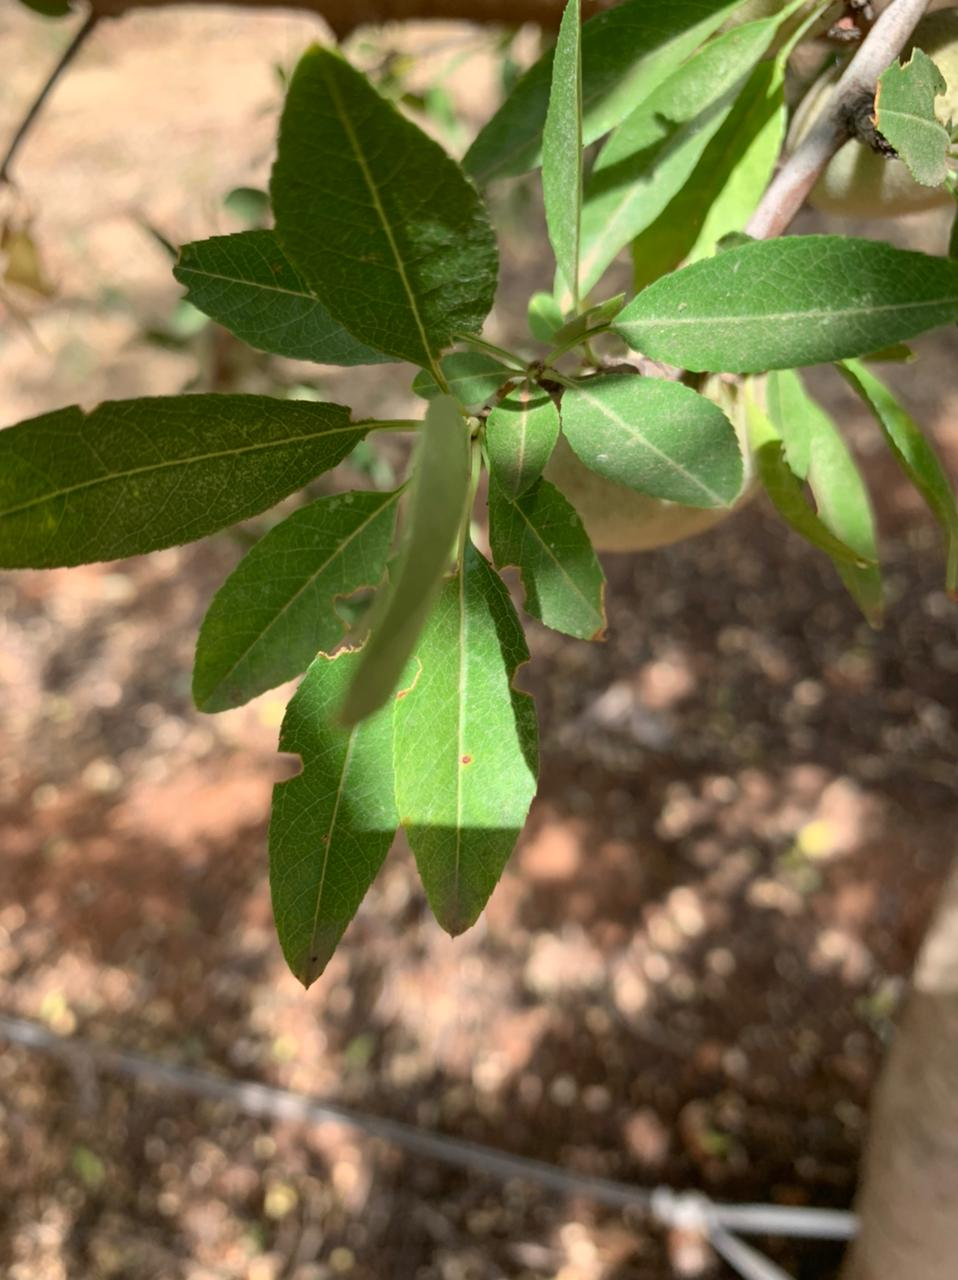othyorinques: (394, 535, 544, 938), (266, 595, 408, 988), (189, 491, 401, 714), (486, 463, 610, 642)
